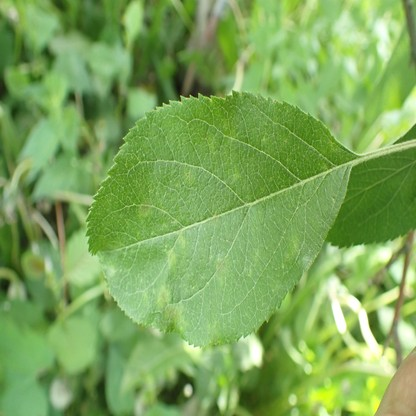scab: (158, 285, 183, 329), (285, 236, 300, 260), (217, 252, 227, 281), (139, 202, 151, 217), (167, 252, 177, 270), (177, 234, 186, 245)
